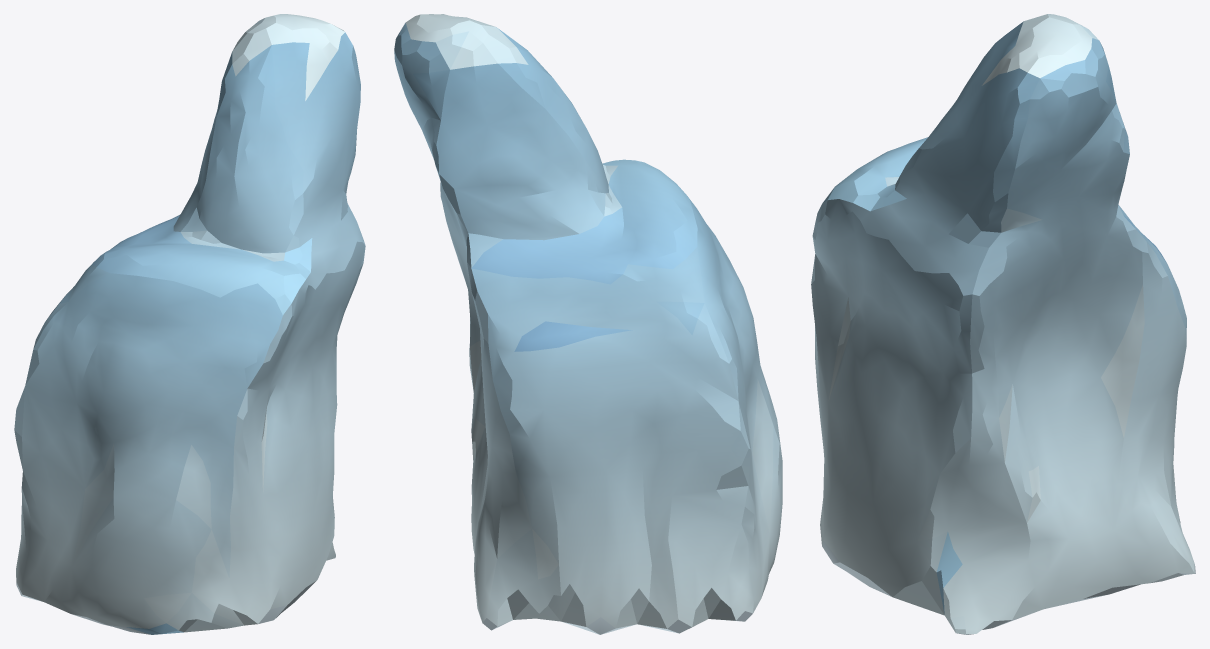
File: SnowHigh-1-col.glb
3 renders of one model, left to right at view 1: azimuth 30°, elevation 25°; view 2: azimuth 150°, elevation 25°; view 3: azimuth 270°, elevation 25°, orthographic. The views are drawn at different scales.
Parts seen in each view (by area): view 1: Cube.110; view 2: Cube.110; view 3: Cube.110.
Boxes of the visible parts, x1,y1,x2,y2 form: Cube.110: [14, 14, 365, 634]; Cube.110: [394, 14, 782, 634]; Cube.110: [811, 14, 1195, 634].
Size of the model in its own units: 4.87 by 7.15 by 4.12.
Materials: 1 (1 with a texture image).
